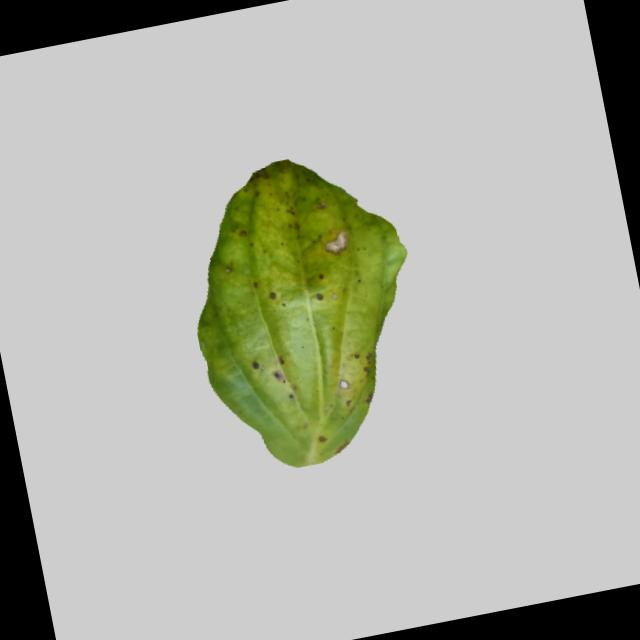yellow-mottle-virus: (154, 142, 448, 491)
